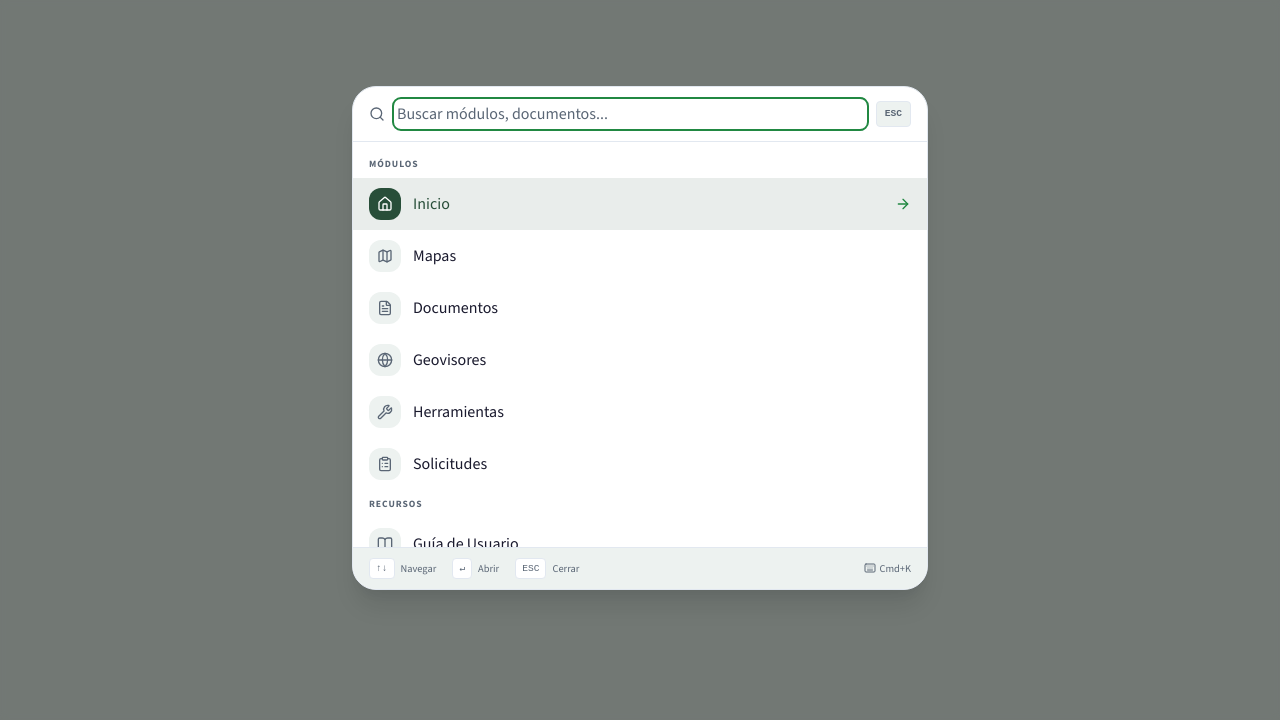
Test case: CommandPalette — resultados y agrupación › filtra por texto de la etiqueta
In the dropdown: (630, 114) [397,102,864,126], type "geovisores"
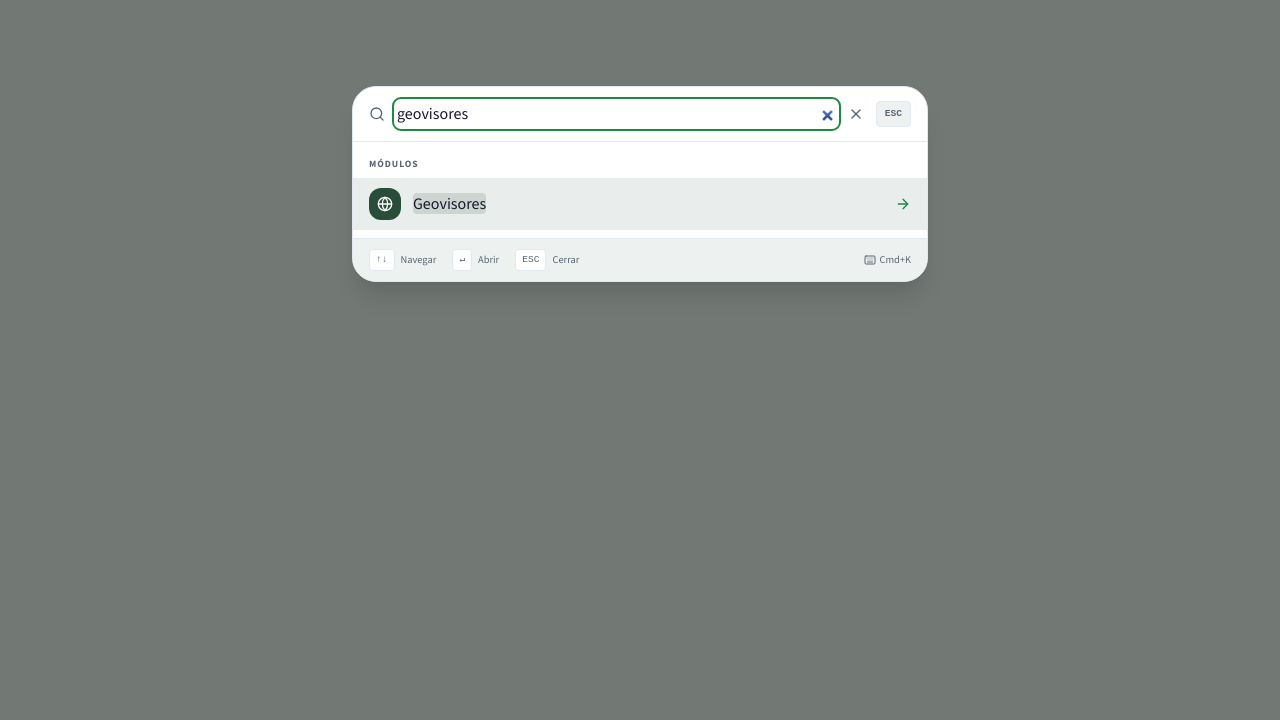
Expected: the text "Geovisores" is shown, [413,193,486,214]
Result: the option "Documentos" is gone
